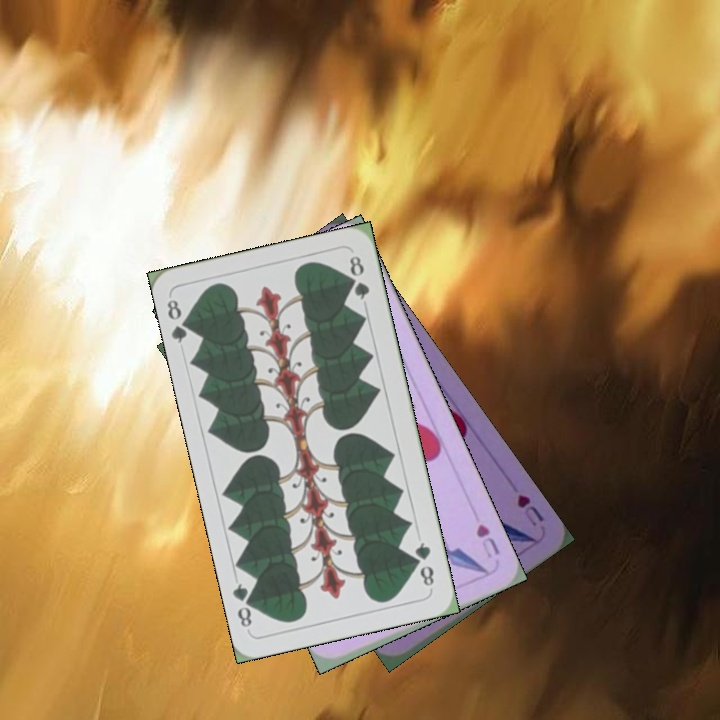G8: (162, 295, 196, 346), (411, 538, 437, 589)
HU: (513, 490, 547, 530), (472, 519, 503, 561)
